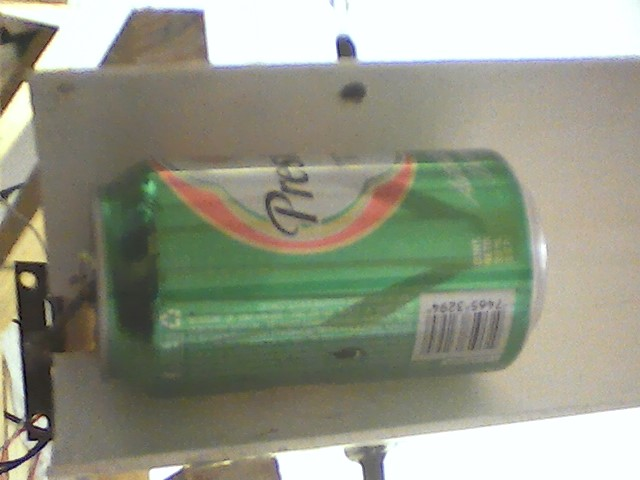lata: (87, 143, 564, 403)
